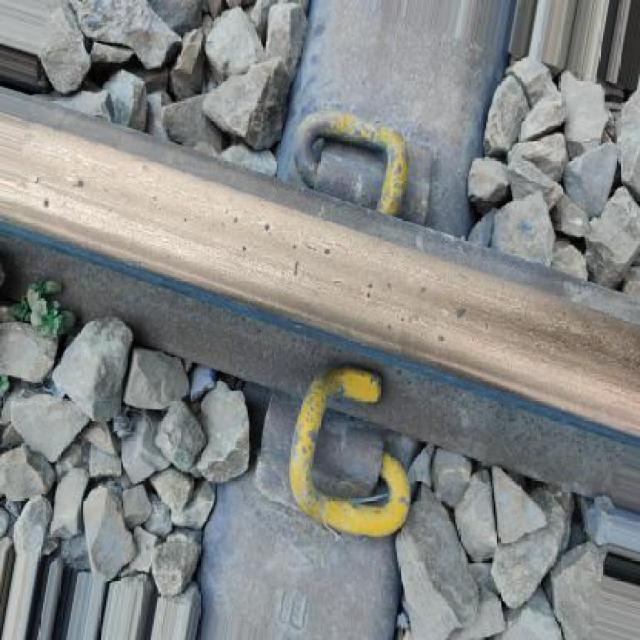non-defective: (0, 56, 640, 584)
